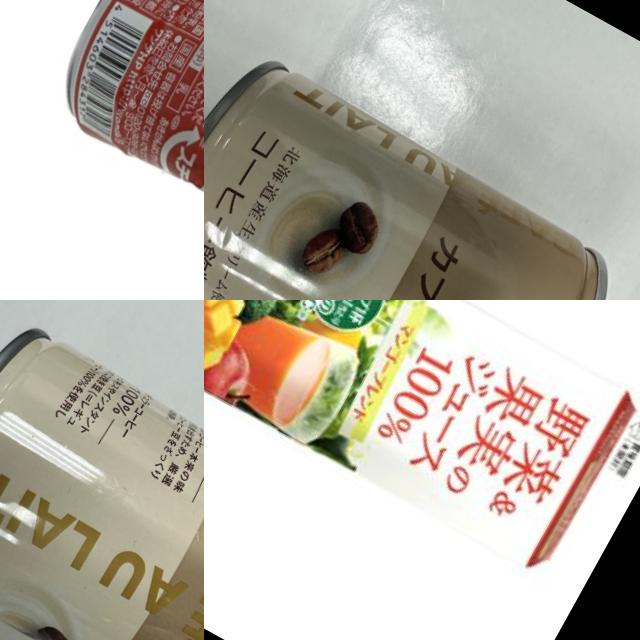Aluminium Foil: (204, 300, 640, 584)
Can: (204, 45, 640, 300), (0, 322, 204, 640), (35, 0, 204, 300)
